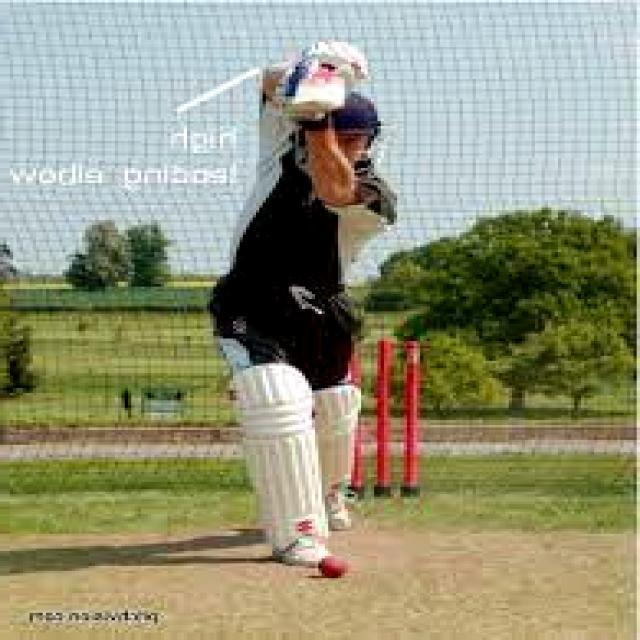bat: (287, 70, 351, 117)
toe: (294, 103, 341, 112)
